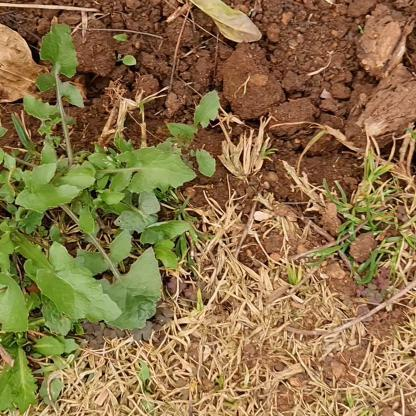Weeds: (0, 18, 221, 415)
